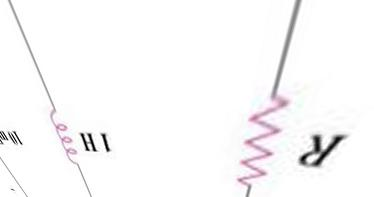resistor: (220, 75, 304, 188)
